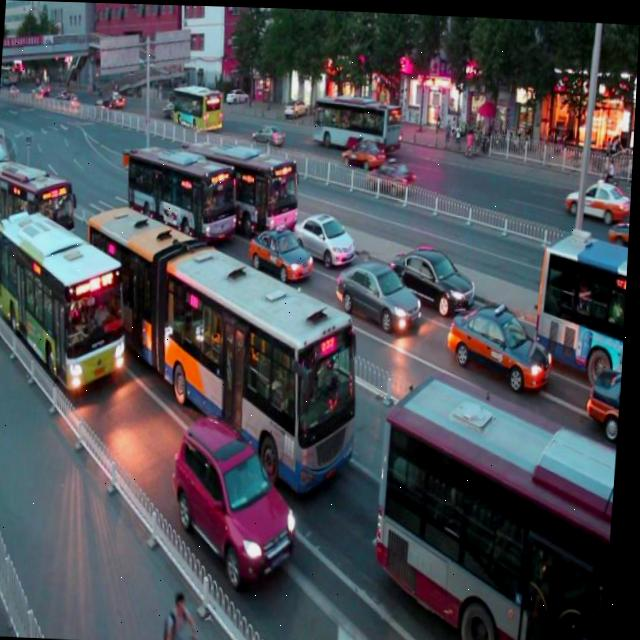car: (172, 412, 306, 583), (448, 290, 559, 389), (335, 247, 424, 329), (392, 232, 480, 307), (247, 213, 316, 279), (291, 197, 358, 264), (47, 232, 100, 292), (587, 356, 626, 432), (252, 153, 290, 192)
van: (73, 194, 373, 488), (374, 371, 624, 640), (0, 210, 135, 392), (533, 226, 631, 378), (123, 132, 242, 247), (183, 127, 304, 234), (0, 150, 79, 249)
